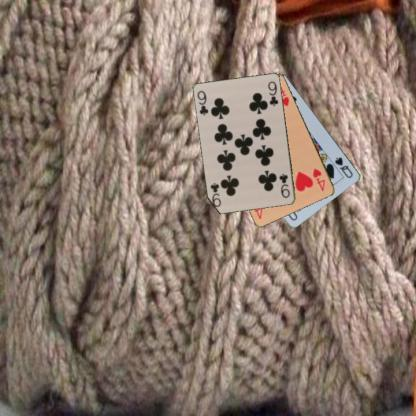4h: (310, 166, 326, 192)
9c: (276, 170, 292, 199), (194, 88, 210, 117)
Qs: (332, 154, 354, 179)
